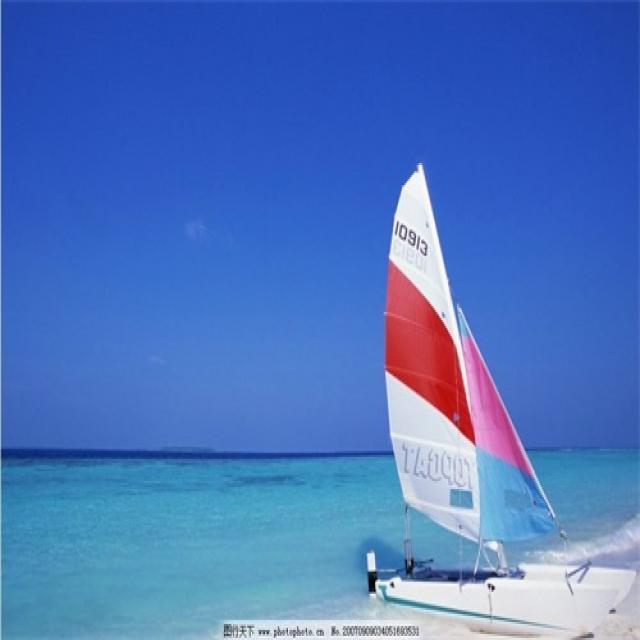Ship: (376, 166, 635, 640)
